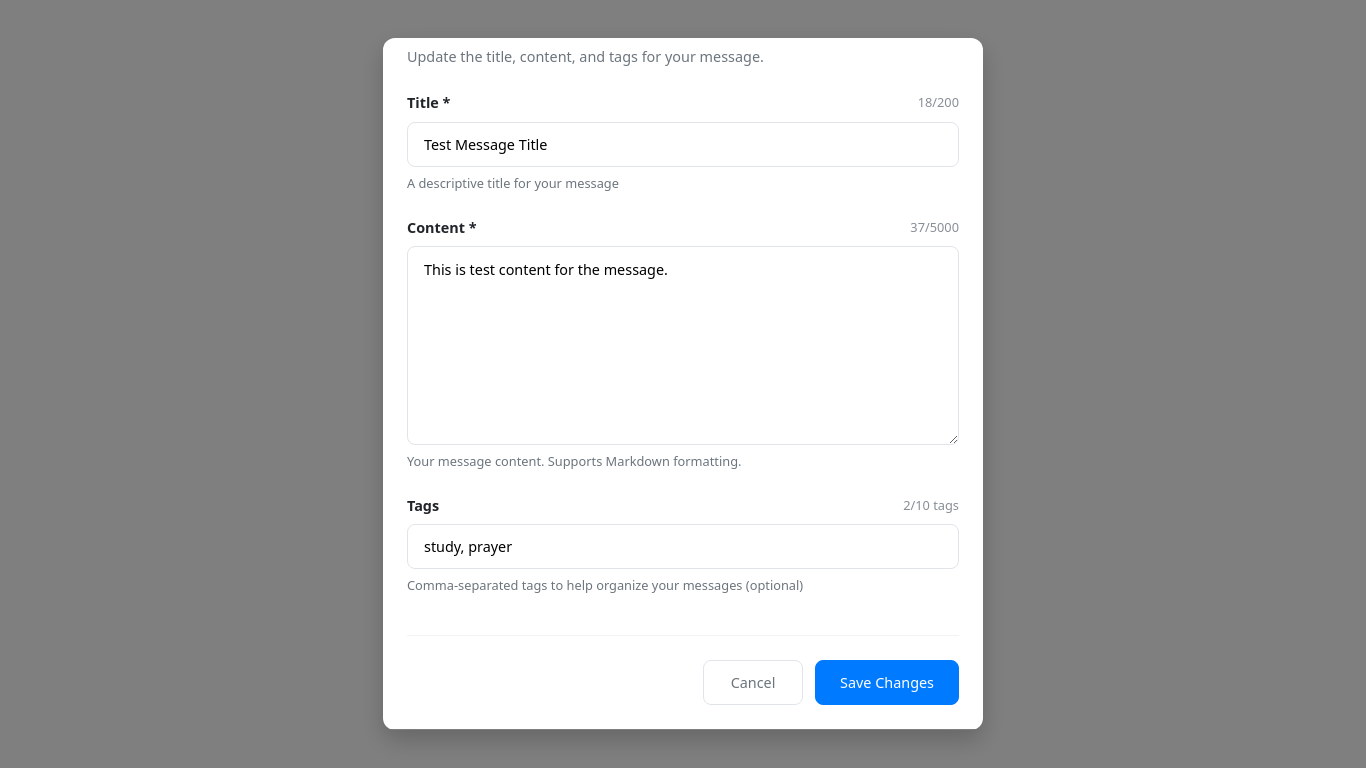
it: MessageEditModal › Form Validation › shows validation errors
The width and height of the screenshot is (1366, 768).
(page scrolled)
Click the button "Save Changes".
click(887, 683)  # box [815, 660, 959, 705]
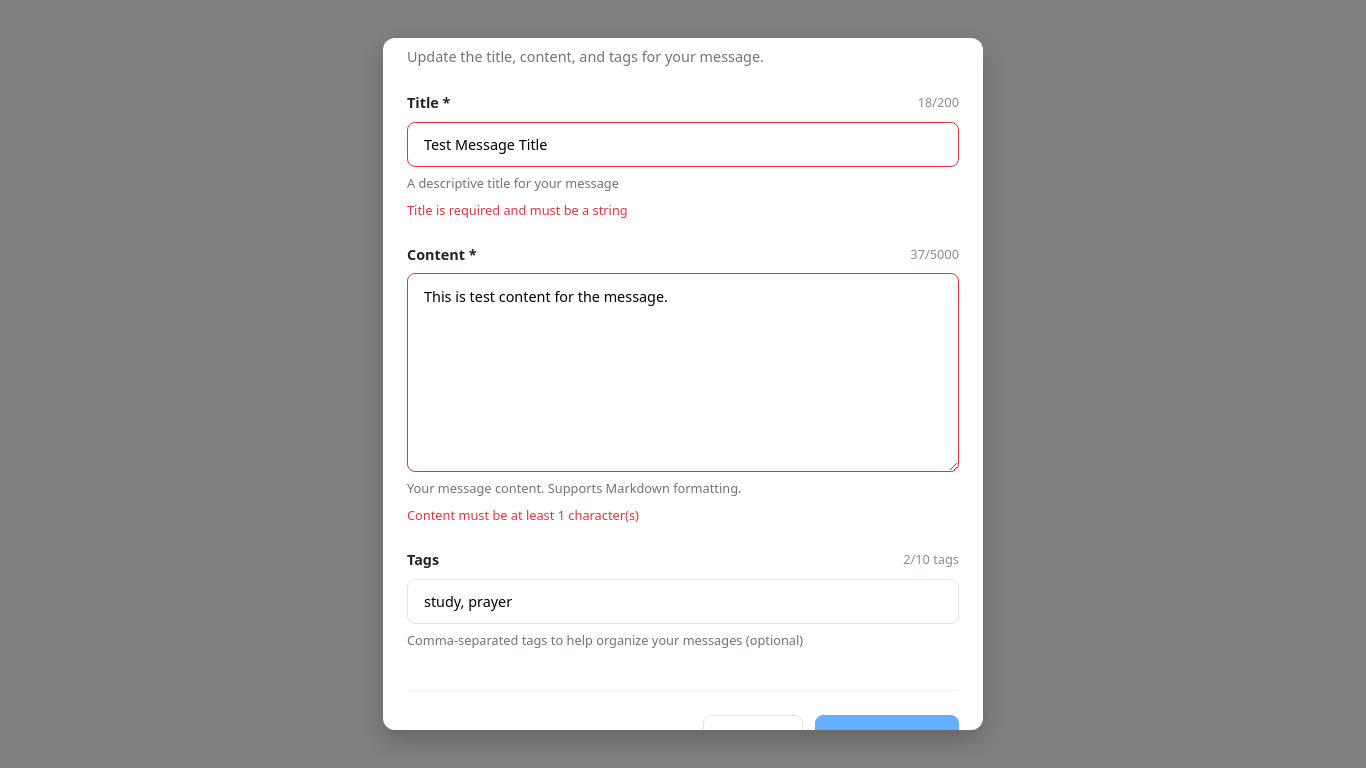
Now the text "Title is required and must be a string" is shown, box [407, 200, 628, 218]
Now the text "Content must be at least 1 character(s)" is shown, box [407, 506, 639, 524]
